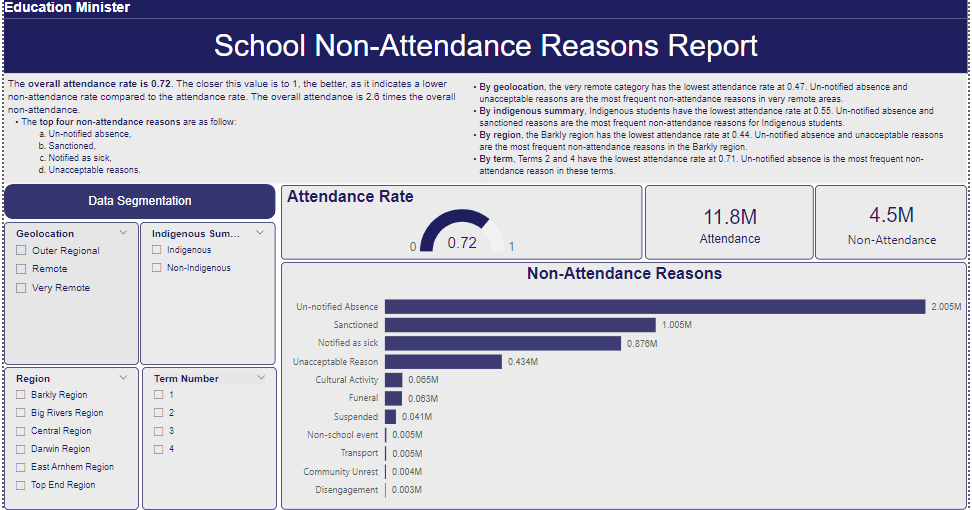

This screenshot's page, from the dashboard's own definition file:
{"tool":"powerbi","page":{"name":"Summary","canvas":[1280,720],"ordinal":0},"visuals":[{"type":"actionButton","box":[0,0,100,40],"z":0},{"type":"clusteredBarChart","title":"Non-Attendance Reasons","fields":{"Y":["Sum(Dataset A.Attendance Code Count)"],"Category":["Data Lookup.Description"]},"box":[368.6,391,911.4,328.8],"z":1000},{"type":"gauge","title":"Attendance Rate","fields":{"Y":["Dataset A.AttendanceRateFinal"],"MinValue":["Dataset A.MinRate"],"MaxValue":["Dataset A.MaxRate"]},"box":[368.6,288.9,479.5,99.2],"z":2000},{"type":"card","fields":{"Values":["Dataset A.Absent"]},"box":[1076.7,288.8,202.3,99.2],"z":3000},{"type":"card","fields":{"Values":["Dataset A.Present"]},"box":[851.1,288.9,223.7,99.2],"z":4000},{"type":"shape","title":"Education Minister","box":[0,40.9,1280,99.2],"z":5000},{"type":"slicer","fields":{"Values":["Dataset A.Geolocation"]},"box":[0,337.5,179,189.7],"z":6000},{"type":"slicer","fields":{"Values":["Dataset A.Indigenous Summary"]},"box":[180.9,337.5,179.9,189.7],"z":7000},{"type":"slicer","fields":{"Values":["Dataset A.Region"]},"box":[0,530.1,179,189.7],"z":8000},{"type":"slicer","fields":{"Values":["Dataset A.Term Number"]},"box":[182.9,530.1,179,189.7],"z":9000},{"type":"shape","title":"Education Minister","box":[0,286.9,360.9,46.7],"z":10000},{"type":"shape","box":[0,140.1,640,146.9],"z":11000},{"type":"shape","box":[639,140.1,640,146.9],"z":12000},{"type":"textbox","box":[0,140.1,608.9,146.9],"z":13000},{"type":"textbox","box":[608.9,144,662.4,143],"z":14000}]}

Visuals, with their boxes on the page's 1280x720 design canvas (x1, y1, x2, y2). These are canvas units, not pixel positions in the 972x510 screenshot, which may show the page scaled, cropped or inside an application window:
actionButton: BBox(0, 0, 100, 40)
"Non-Attendance Reasons" clusteredBarChart: BBox(369, 391, 1280, 720)
"Attendance Rate" gauge: BBox(369, 289, 848, 388)
card - Dataset A.Absent: BBox(1077, 289, 1279, 388)
card - Dataset A.Present: BBox(851, 289, 1075, 388)
"Education Minister" shape: BBox(0, 41, 1280, 140)
slicer - Dataset A.Geolocation: BBox(0, 338, 179, 527)
slicer - Dataset A.Indigenous Summary: BBox(181, 338, 361, 527)
slicer - Dataset A.Region: BBox(0, 530, 179, 720)
slicer - Dataset A.Term Number: BBox(183, 530, 362, 720)
"Education Minister" shape: BBox(0, 287, 361, 334)
shape: BBox(0, 140, 640, 287)
shape: BBox(639, 140, 1279, 287)
textbox: BBox(0, 140, 609, 287)
textbox: BBox(609, 144, 1271, 287)
